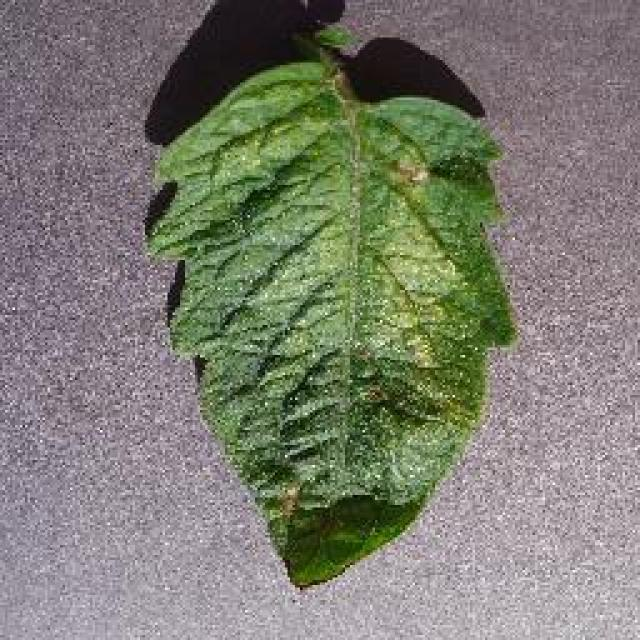Tomato___Spider_mites Two-spotted_spider_mite: (148, 30, 512, 585)
